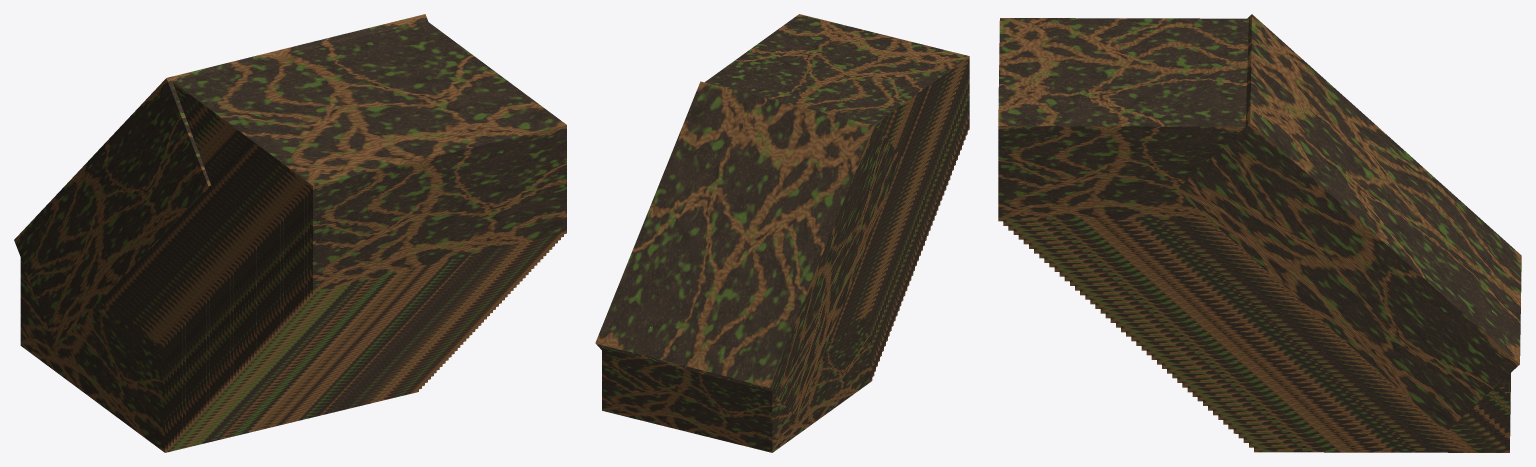
Rendered from Slope.gltf.
3 renders of one model, left to right at view 1: azimuth 30°, elevation 25°; view 2: azimuth 150°, elevation 25°; view 3: azimuth 270°, elevation 25°, orthographic. The views are drawn at different scales.
Visible parts, largest first — view 1: 立方体.001, COL2, 立方体.051, 立方体.003, 立方体.004, 立方体.002, 立方体.005, 立方体.006, 立方体.007, 立方体.008, 立方体.009, 立方体.010 (+40 smaller); view 2: COL2, 立方体.001, 立方体.051, 立方体.002, 立方体.003, 立方体.004, 立方体.005, 立方体.006, 立方体.012, 立方体.007, 立方体.011, 立方体.008 (+25 smaller); view 3: COL2, 立方体.001, 立方体.051, 立方体.050, 立方体.049, 立方体.047, 立方体.048, 立方体.046, 立方体.045, 立方体.044, 立方体.002, 立方体.004 (+40 smaller).
Part boxes in pixels (x1,y1,x2,y2): 立方体.001: [172, 21, 566, 294]; COL2: [14, 14, 428, 347]; 立方体.051: [20, 258, 418, 452]; 立方体.003: [178, 96, 560, 300]; 立方体.004: [181, 104, 557, 303]; 立方体.002: [175, 89, 563, 297]; 立方体.005: [183, 111, 554, 307]; 立方体.006: [186, 119, 552, 310]; 立方体.007: [189, 126, 549, 313]; 立方体.008: [192, 134, 546, 316]; 立方体.009: [194, 141, 543, 319]; 立方体.010: [197, 148, 540, 322]; COL2: [595, 81, 902, 418]; 立方体.001: [705, 14, 969, 130]; 立方体.051: [602, 308, 872, 452]; 立方体.002: [839, 61, 967, 135]; 立方体.003: [845, 66, 965, 140]; 立方体.004: [850, 71, 963, 145]; 立方体.005: [856, 76, 961, 150]; 立方体.006: [884, 81, 959, 155]; 立方体.012: [894, 106, 950, 180]; 立方体.007: [886, 86, 957, 160]; 立方体.011: [896, 111, 948, 185]; 立方体.008: [888, 91, 955, 165]; COL2: [1176, 14, 1521, 431]; 立方体.001: [998, 18, 1255, 221]; 立方体.051: [1254, 373, 1510, 452]; 立方体.050: [1249, 379, 1504, 448]; 立方体.049: [1243, 383, 1499, 443]; 立方体.047: [1233, 393, 1489, 434]; 立方体.048: [1238, 388, 1494, 438]; 立方体.046: [1228, 397, 1484, 429]; 立方体.045: [1223, 402, 1479, 425]; 立方体.044: [1218, 407, 1473, 420]; 立方体.002: [1003, 23, 1260, 226]; 立方体.004: [1013, 33, 1270, 235].
Bounding box in the file's own units: 10.27 × 14.29 × 20.46.
53 materials, 53 textured.
